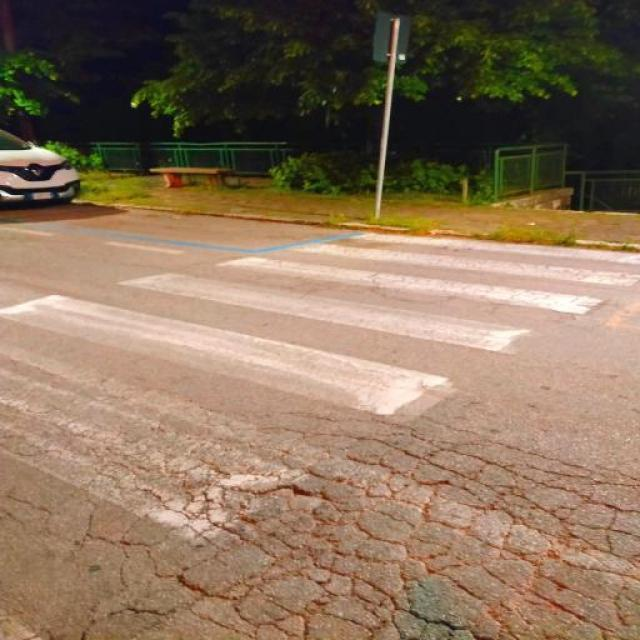crosswalk: (0, 226, 640, 545)
